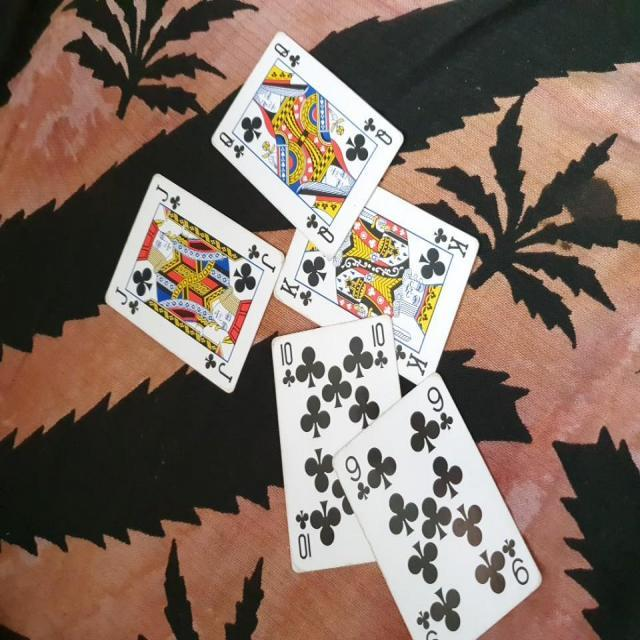10 of clubs: (270, 309, 404, 578)
9 of clubs: (329, 371, 543, 640)
jack of clubs: (104, 172, 286, 394)
king of clubs: (274, 185, 482, 388)
queen of clubs: (206, 27, 406, 260)
